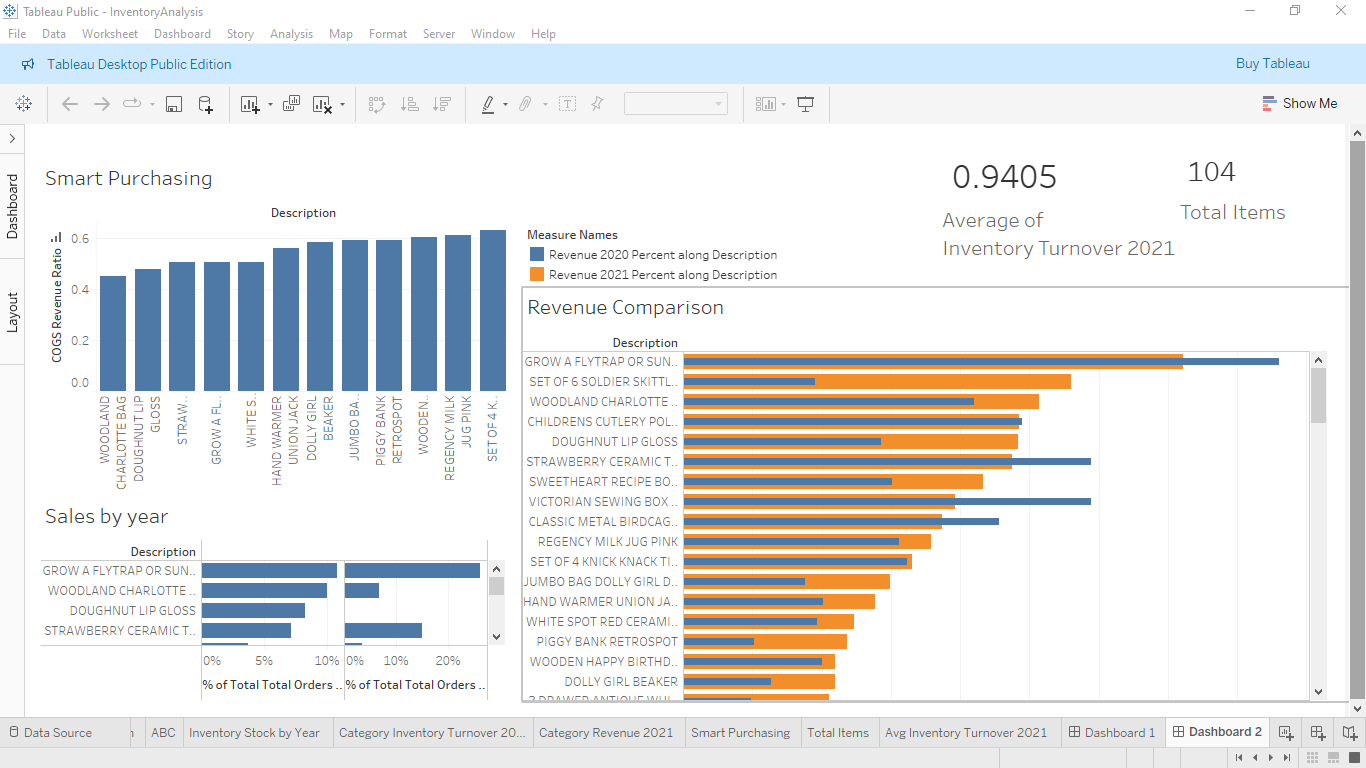

The page's visual inventory and layout, read from the dashboard file:
{"tool":"tableau","page":{"name":"Dashboard 2","canvas":[1000,1000],"units":"permille","ordinal":1},"visuals":[{"type":"worksheet","title":"Total Items","mark":"Automatic","box":[875,45.5,104.5,193.9]},{"type":"worksheet","title":"Avg Inventory Turnover 2021","mark":"Automatic","box":[694.7,48.9,211.4,209.1]},{"type":"worksheet","title":"Smart Purchasing","mark":"Automatic","rows":["Calculation_580682936325218313"],"cols":["Description"],"box":[12.1,59,355.3,559.9]},{"type":"legend","title":"Revenue Comparison","param":"[federated.00ugj3b19uao4k18niynz0abt8hv].[:Measure Names]","box":[380.3,172,219.7,97.8]},{"type":"worksheet","title":"Sales by year","mark":"Automatic","rows":["Description"],"cols":["Calculation_1009932275439714312","Calculation_1009932275438059527"],"box":[12.1,629,352.3,344]}]}

Visuals, with their boxes on the dashboard's canvas, which has no fixed pixel size, in thousandths of its width and height (x1, y1, x2, y2). These are canvas units, not pixel positions in the 1366x768 screenshot, which may show the page scaled, cropped or inside an application window:
"Total Items" worksheet: <region>875, 46, 980, 239</region>
"Avg Inventory Turnover 2021" worksheet: <region>695, 49, 906, 258</region>
"Smart Purchasing" worksheet: <region>12, 59, 367, 619</region>
"Revenue Comparison" legend: <region>380, 172, 600, 270</region>
"Sales by year" worksheet: <region>12, 629, 364, 973</region>
